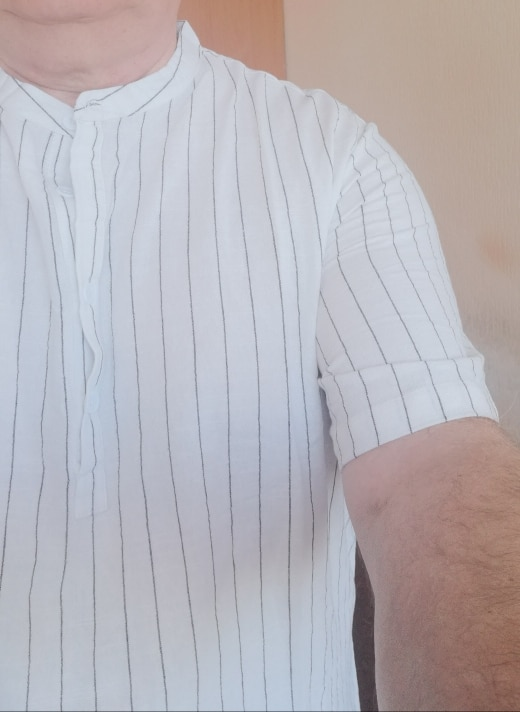shirts: (13, 24, 504, 711)
